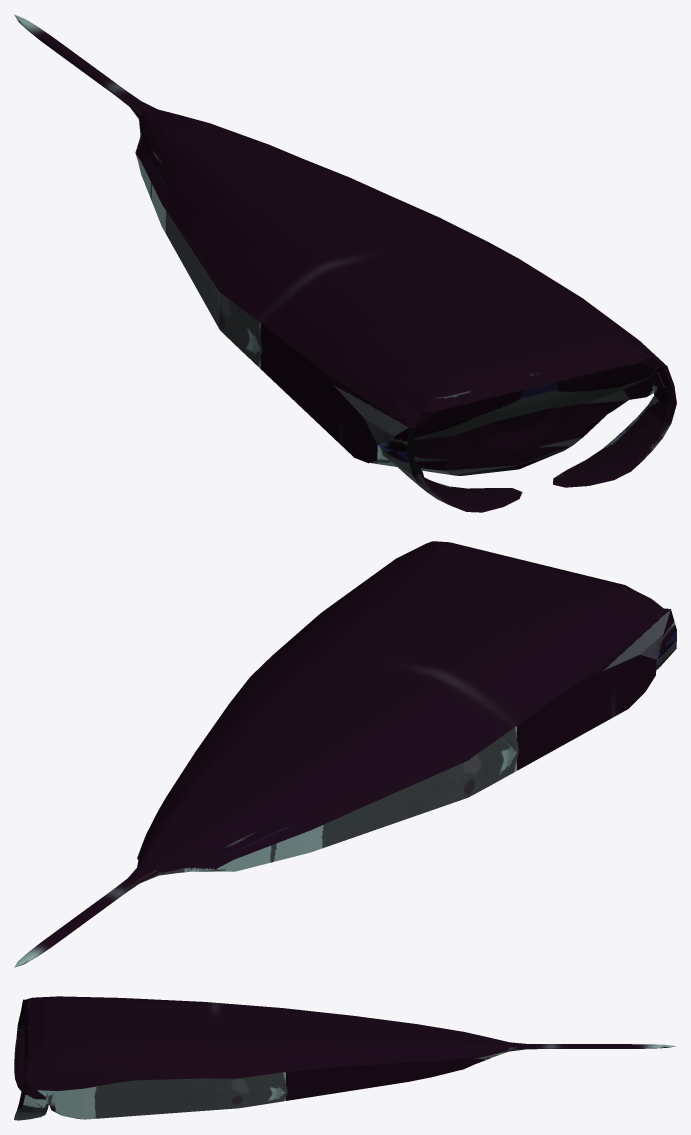
The model's file is body.obj.
The picture shows the model from 3 angles, top to bottom: view 1: azimuth 30°, elevation 25°; view 2: azimuth 150°, elevation 25°; view 3: azimuth 270°, elevation 25°; orthographic projection. The views are drawn at different scales.
Visible parts, largest first — view 1: body; view 2: body; view 3: body.
Boxes of the visible parts, x1,y1,x2,y2 form: body: (14, 14, 676, 512); body: (14, 541, 676, 967); body: (14, 996, 675, 1120).
Size of the model in its own units: 4.78 by 2.11 by 15.92.
Materials: 1 (1 with a texture image).
